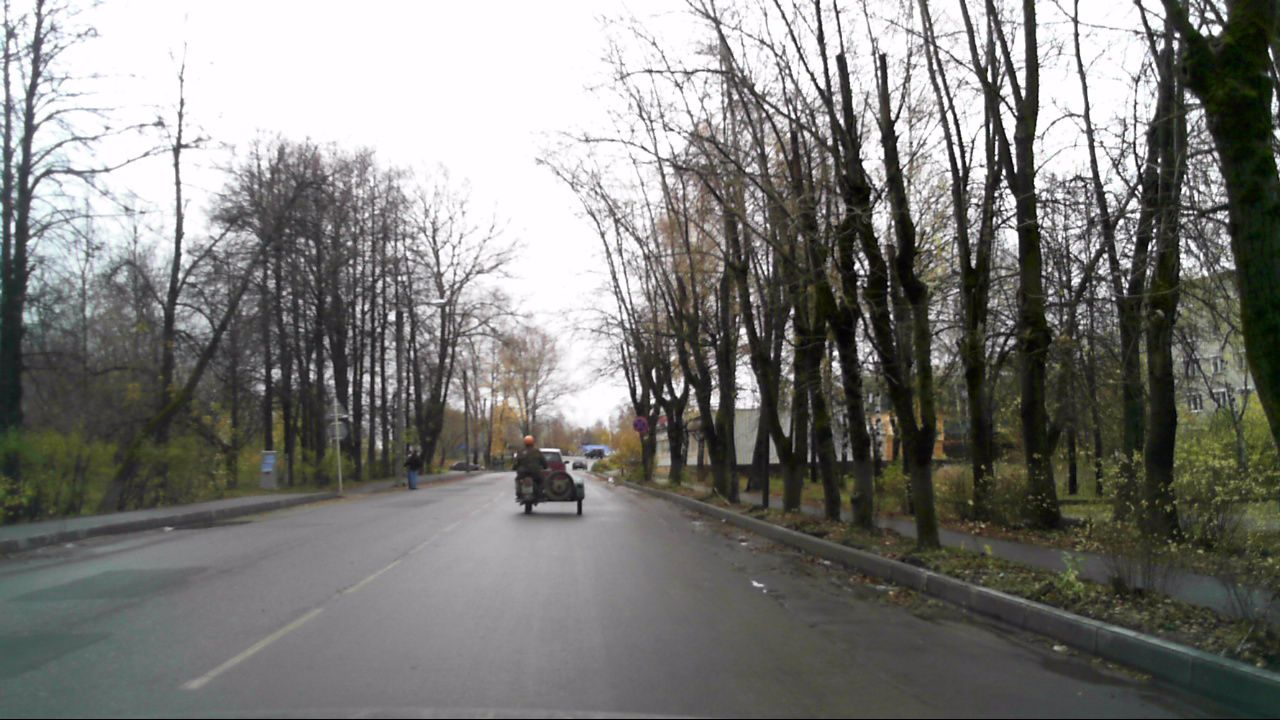No Parking: (631, 414, 650, 433)
